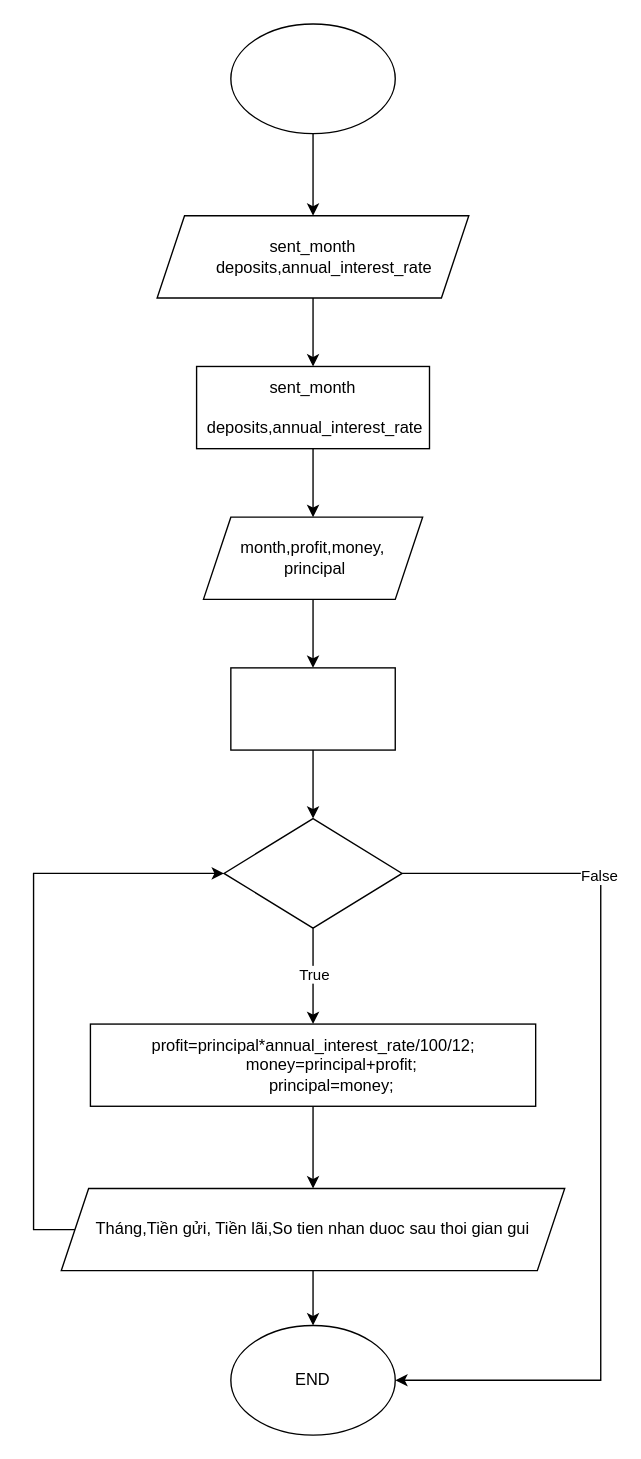
This 641x1459 diagram has some shape labels left out. Here are the shapes that lost their labels. From the top down, the centre of each, then its label:
At point 312,78: "Start".
At point 312,708: "principal=deposits".
At point 312,872: "month<sent_month".
